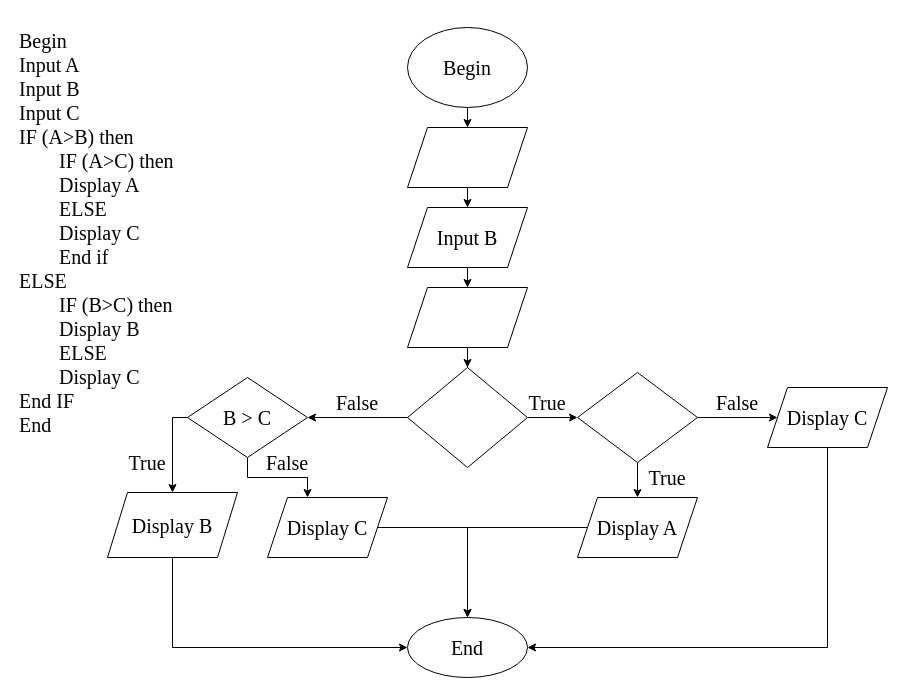
Some shapes in this 905 by 695 pixel diagram are drawn without their labels. The shapes that lost their labels are listed below. From the top down, each one's centre as x and y in pixels, then its label:
[467,157]: Input A
[467,317]: Input C
[467,417]: A > B
[637,417]: A > C
